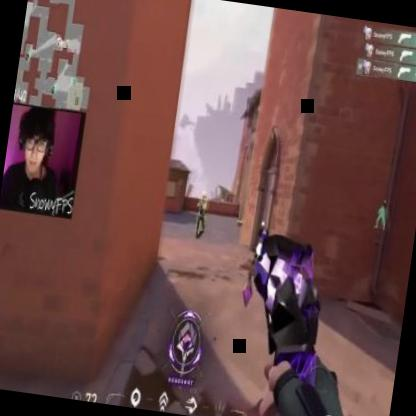enemy: (191, 189, 210, 241)
enemy_head: (199, 190, 206, 202)
